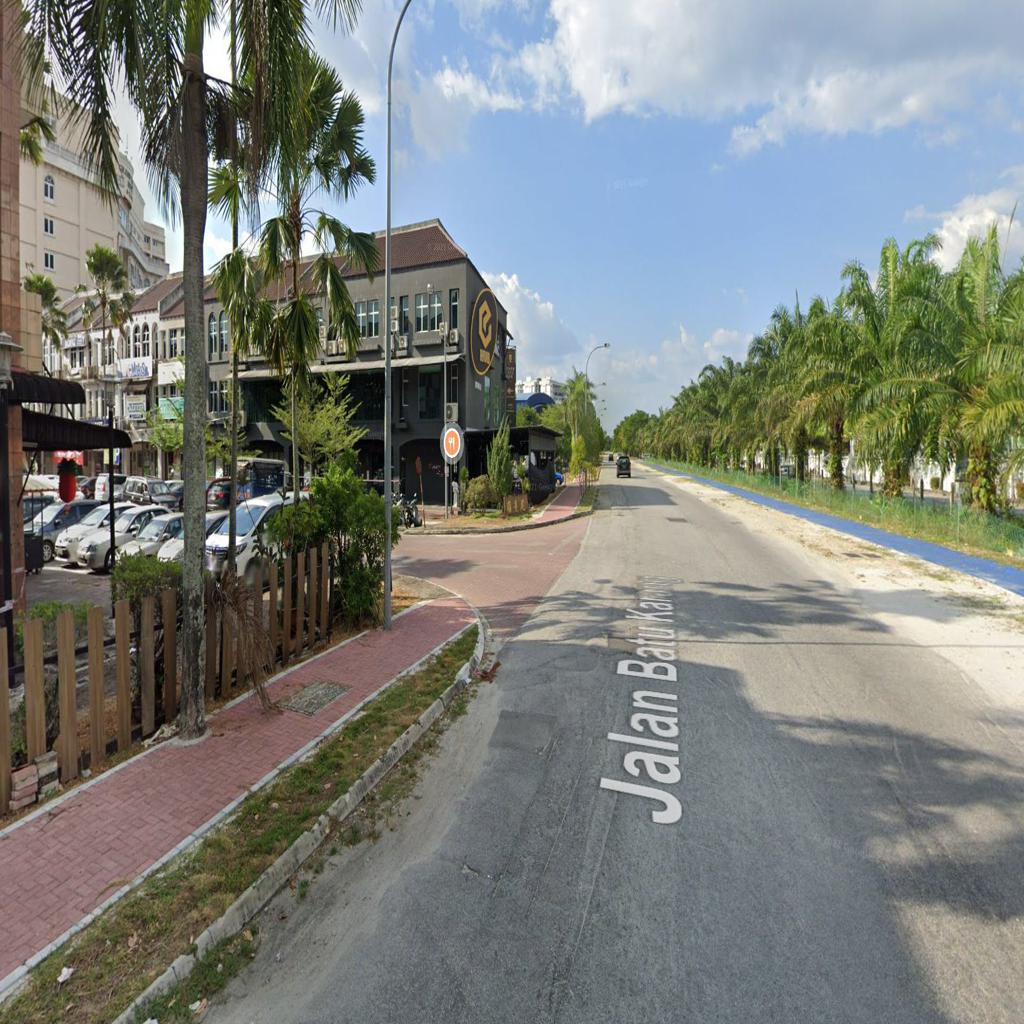Junction: (402, 508, 604, 660)
